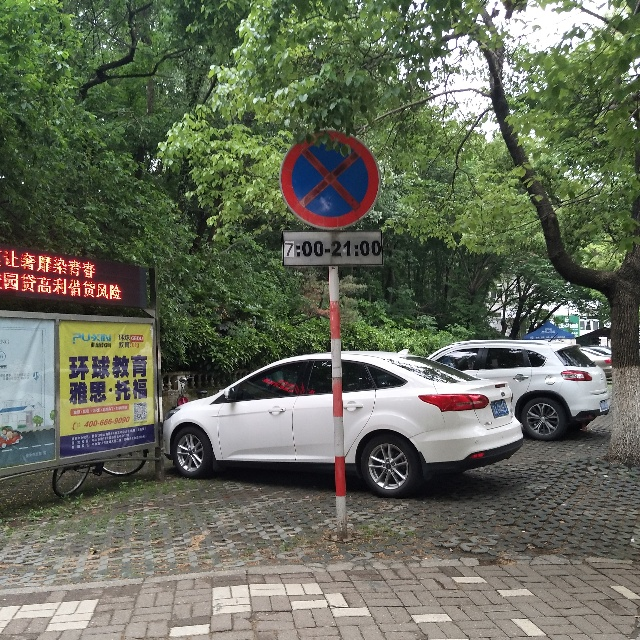stop: (282, 129, 380, 228)
